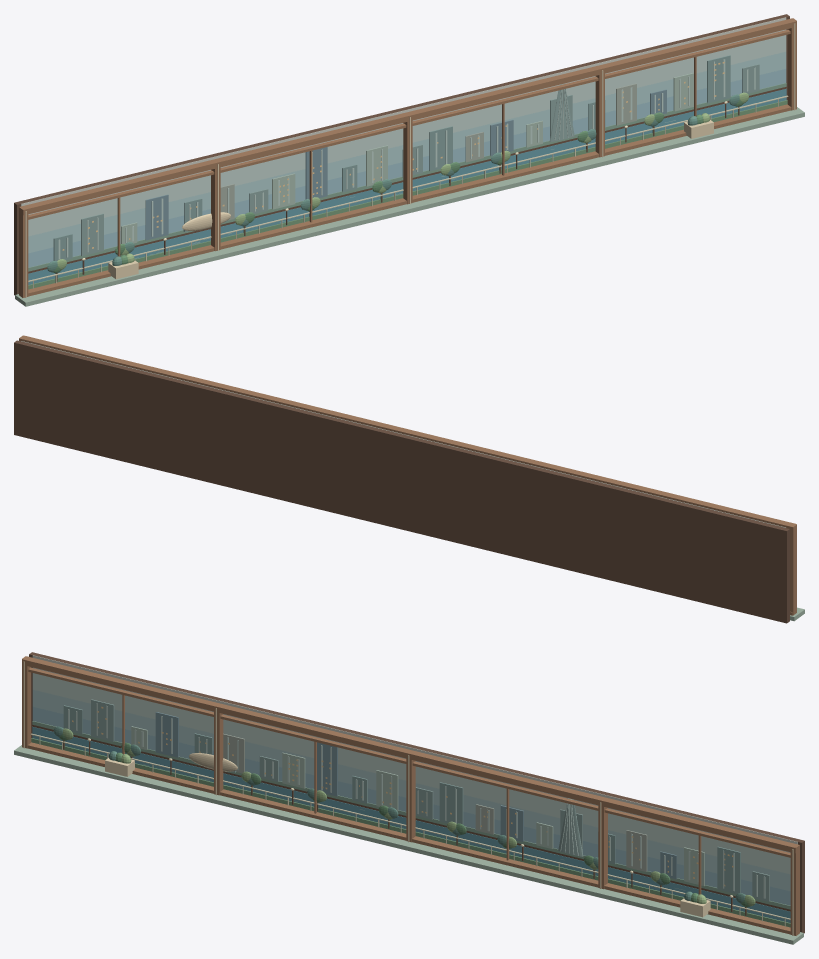
Rendered from park_kitchen_bay_window_day.glb.
The picture shows the model from 3 angles, top to bottom: view 1: azimuth 30°, elevation 25°; view 2: azimuth 150°, elevation 25°; view 3: azimuth 330°, elevation 25°; orthographic projection.
Parts seen in each view (by area): view 1: sky_depth_band_2, window_top_rail, continuous_celadon_stone_sill, bay_water_surface, sky_depth_band_1, window_bottom_rail, recess_dark_oak, sky_depth_band_0, window_transom_rail, sky_depth_band_3, near_baywalk_green_ribbon, far_shore_green (+17 smaller); view 2: recess_dark_oak, window_top_rail, sky_depth_band_3, main_oak_mullion; view 3: sky_depth_band_2, window_top_rail, continuous_celadon_stone_sill, bay_water_surface, sky_depth_band_1, window_bottom_rail, recess_dark_oak, sky_depth_band_0, window_transom_rail, sky_depth_band_3, near_baywalk_green_ribbon, far_shore_green (+19 smaller).
Boxes of the visible parts, left/top/right/bottom form: sky_depth_band_2: left=28, top=35, right=786, bottom=236; window_top_rail: left=21, top=18, right=796, bottom=215; continuous_celadon_stone_sill: left=15, top=107, right=804, bottom=306; bay_water_surface: left=28, top=88, right=786, bottom=284; sky_depth_band_1: left=28, top=51, right=786, bottom=253; window_bottom_rail: left=28, top=104, right=791, bottom=296; recess_dark_oak: left=14, top=14, right=789, bottom=295; sky_depth_band_0: left=28, top=69, right=786, bottom=267; window_transom_rail: left=28, top=29, right=790, bottom=219; sky_depth_band_3: left=21, top=17, right=786, bottom=214; near_baywalk_green_ribbon: left=28, top=100, right=787, bottom=289; far_shore_green: left=28, top=83, right=786, bottom=271; recess_dark_oak: left=14, top=340, right=789, bottom=623; window_top_rail: left=19, top=335, right=796, bottom=532; sky_depth_band_3: left=21, top=341, right=785, bottom=527; main_oak_mullion: left=790, top=524, right=796, bottom=615; sky_depth_band_2: left=32, top=673, right=790, bottom=874; window_top_rail: left=22, top=656, right=798, bottom=853; continuous_celadon_stone_sill: left=14, top=745, right=803, bottom=944; bay_water_surface: left=32, top=726, right=790, bottom=922; sky_depth_band_1: left=32, top=689, right=790, bottom=891; window_bottom_rail: left=27, top=742, right=790, bottom=934; recess_dark_oak: left=29, top=652, right=804, bottom=933; sky_depth_band_0: left=32, top=706, right=790, bottom=905; window_transom_rail: left=28, top=667, right=790, bottom=857; sky_depth_band_3: left=32, top=655, right=797, bottom=852; near_baywalk_green_ribbon: left=31, top=738, right=790, bottom=927; far_shore_green: left=32, top=721, right=790, bottom=909.
Bounding box in the file's own units: 14.84 × 1.69 × 0.492.
